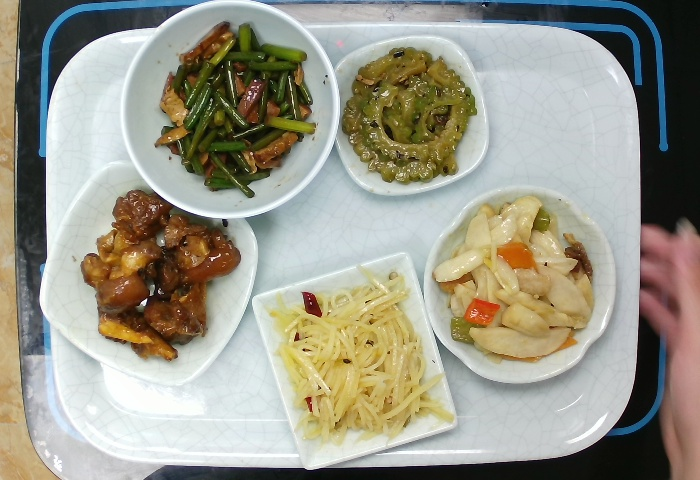JYsf-Ao_Yuan_Wan: (421, 182, 621, 388)
JYsf-Fan_Wan: (117, 1, 341, 226)
JYsf-Si_Fang_Die: (331, 27, 492, 202)
WCQzf-Da_Si_Fang_Die: (36, 156, 261, 385)
WCQzf-Ru_Ci_Si_Fang_Die: (247, 241, 466, 473)
